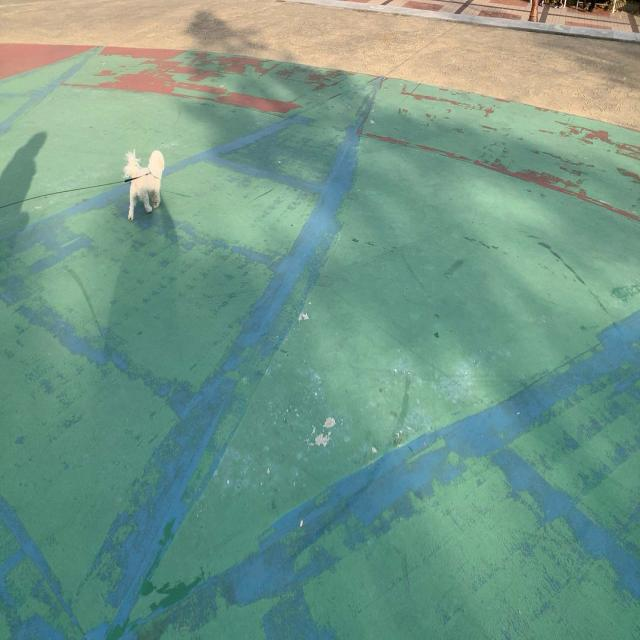Dog: (123, 146, 165, 222)
